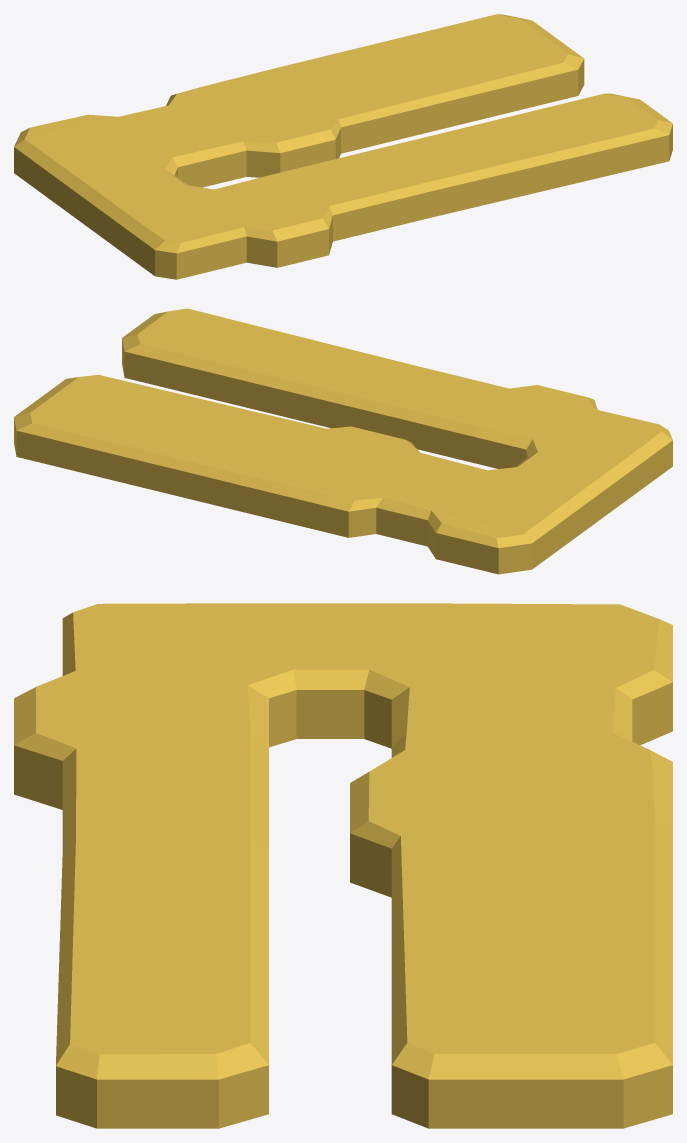
File: Block02.fbx
3 renders of one model, top to bottom at view 1: azimuth 30°, elevation 25°; view 2: azimuth 150°, elevation 25°; view 3: azimuth 270°, elevation 25°, orthographic. The views are drawn at different scales.
Parts seen in each view (by area): view 1: pCube3; view 2: pCube3; view 3: pCube3.
Boxes of the visible parts, left/top/right/bottom form: pCube3: left=14, top=14, right=672, bottom=279; pCube3: left=14, top=308, right=672, bottom=574; pCube3: left=14, top=603, right=672, bottom=1128.
Bounding box in the file's own units: 24.65 × 1.5 × 14.52.
